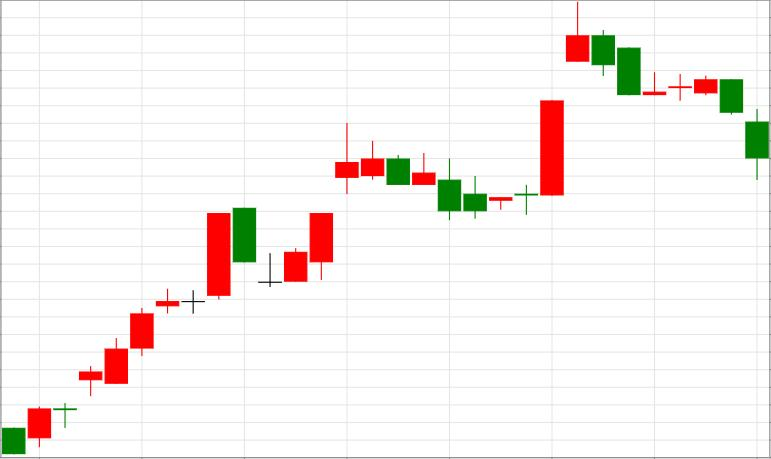shooting_star_fall: (489, 0, 589, 215)
